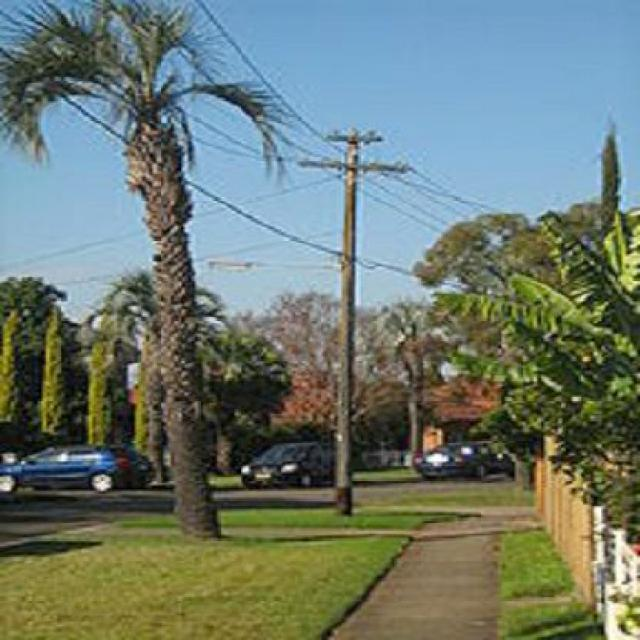crossarm: (301, 156, 409, 175), (330, 132, 381, 142)
pole: (337, 129, 358, 517)
wire: (0, 177, 334, 277), (195, 1, 333, 144), (183, 175, 343, 257), (359, 187, 450, 236), (366, 180, 451, 226), (67, 98, 130, 146)
